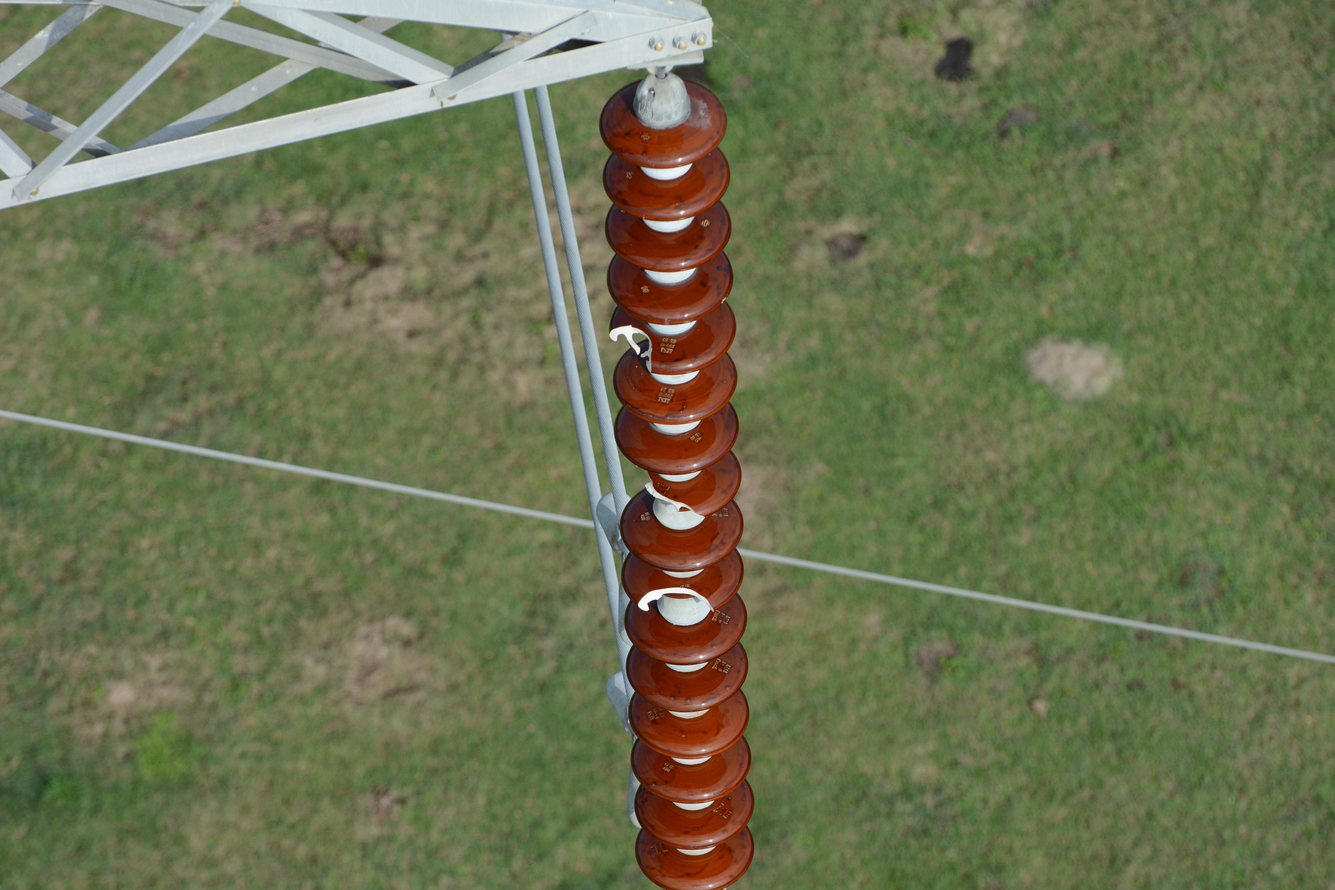damaged: (633, 463, 710, 521), (633, 575, 722, 625), (609, 318, 678, 380)
hammer: (596, 492, 639, 645), (606, 672, 644, 827)
insulator: (593, 93, 756, 890)
